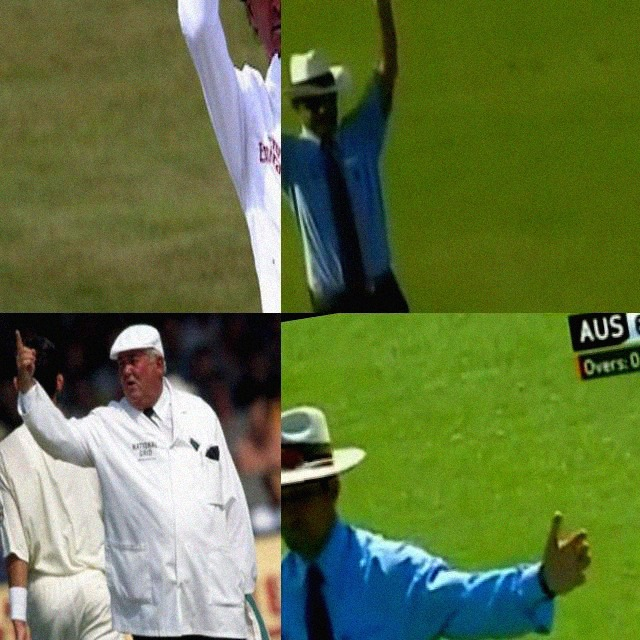No_Ball: (281, 356, 640, 640)
Out: (0, 313, 281, 640)
Six: (281, 0, 481, 313), (131, 0, 281, 313)
